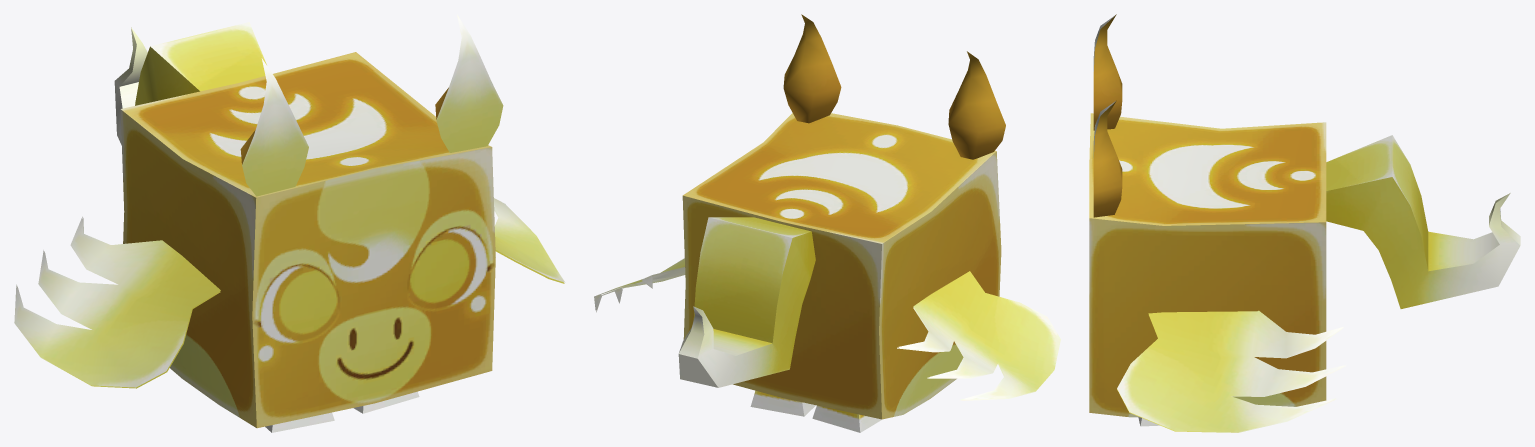
Rendered from pets_23.fbx.
3 renders of one model, left to right at view 1: azimuth 30°, elevation 25°; view 2: azimuth 150°, elevation 25°; view 3: azimuth 270°, elevation 25°, orthographic. The views are drawn at different scales.
Visible parts, largest first — view 1: Pet.036; view 2: Pet.036; view 3: Pet.036.
Part boxes in pixels (<box>): Pet.036: <box>14,14,565,432</box>; Pet.036: <box>594,14,1060,432</box>; Pet.036: <box>1089,14,1520,432</box>.
Size of the model in its own units: 0.7923 by 0.6856 by 0.5963.
